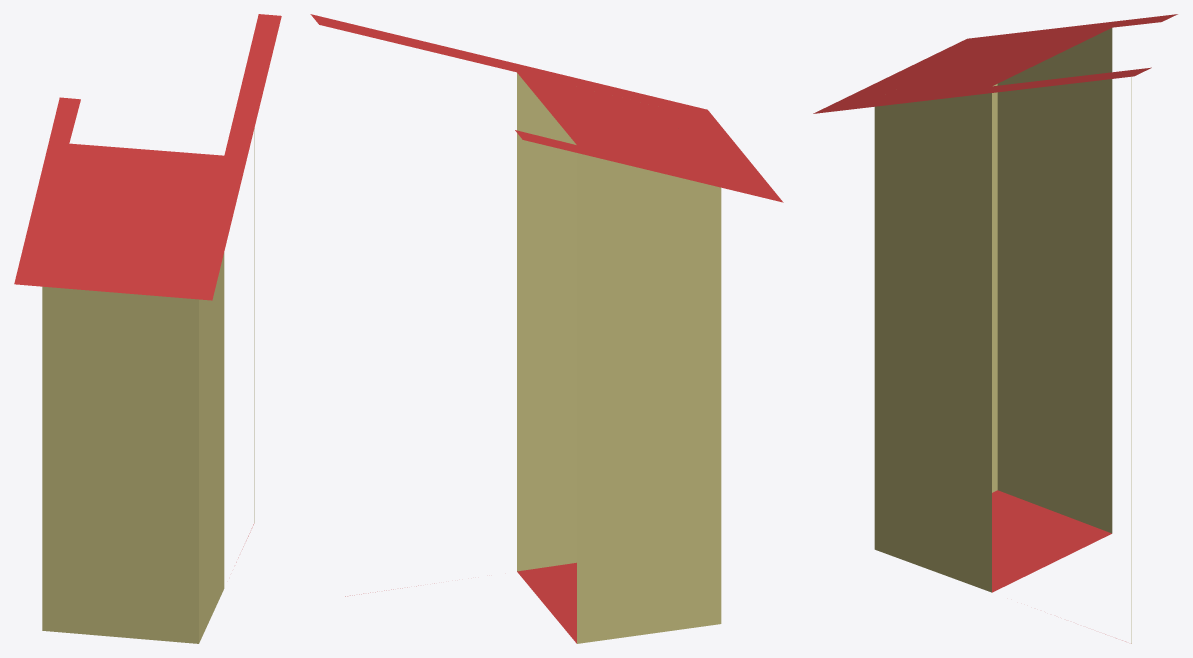
3 views of the same model, side by side, from view 1: azimuth 30°, elevation 25°; view 2: azimuth 150°, elevation 25°; view 3: azimuth 270°, elevation 25° (orthographic). The views are drawn at different scales.
Size of the model in its own units: 8.39 by 6.71 by 11.81.
